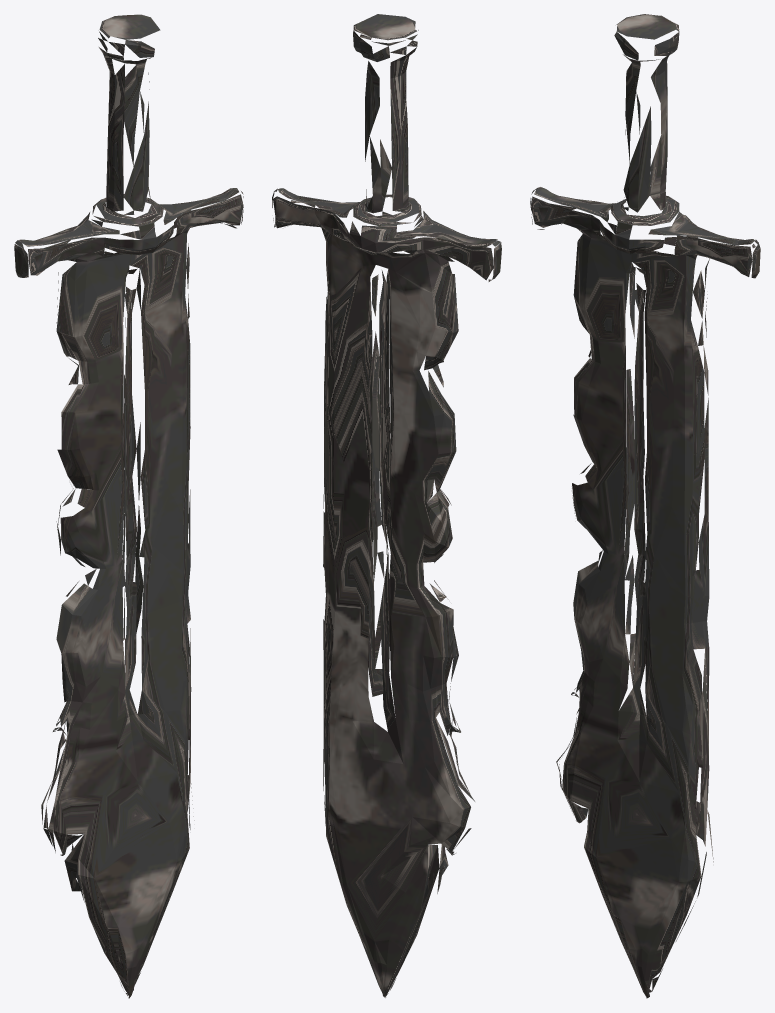
Rendered from greatsword-pixelated.glb.
The picture shows the model from 3 angles, left to right: view 1: azimuth 30°, elevation 25°; view 2: azimuth 150°, elevation 25°; view 3: azimuth 330°, elevation 25°; orthographic projection.
Parts seen in each view (by area): view 1: mesh; view 2: mesh; view 3: mesh.
Boxes of the visible parts, x1,y1,x2,y2 form: mesh: (14, 14, 243, 998); mesh: (272, 14, 501, 997); mesh: (530, 14, 760, 998).
Size of the model in its own units: 0.4838 by 1.99 by 0.164.
1 material, 1 textured.
